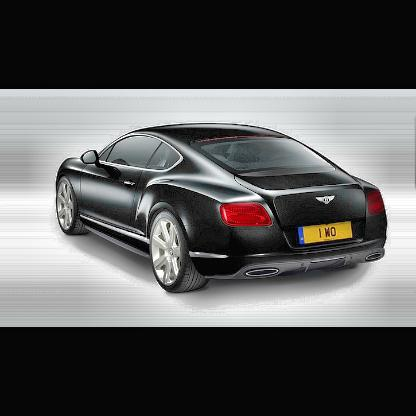Bentley Continental GT Coupe 2012: (55, 122, 391, 295)
